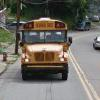Bus: (17, 17, 75, 81)
